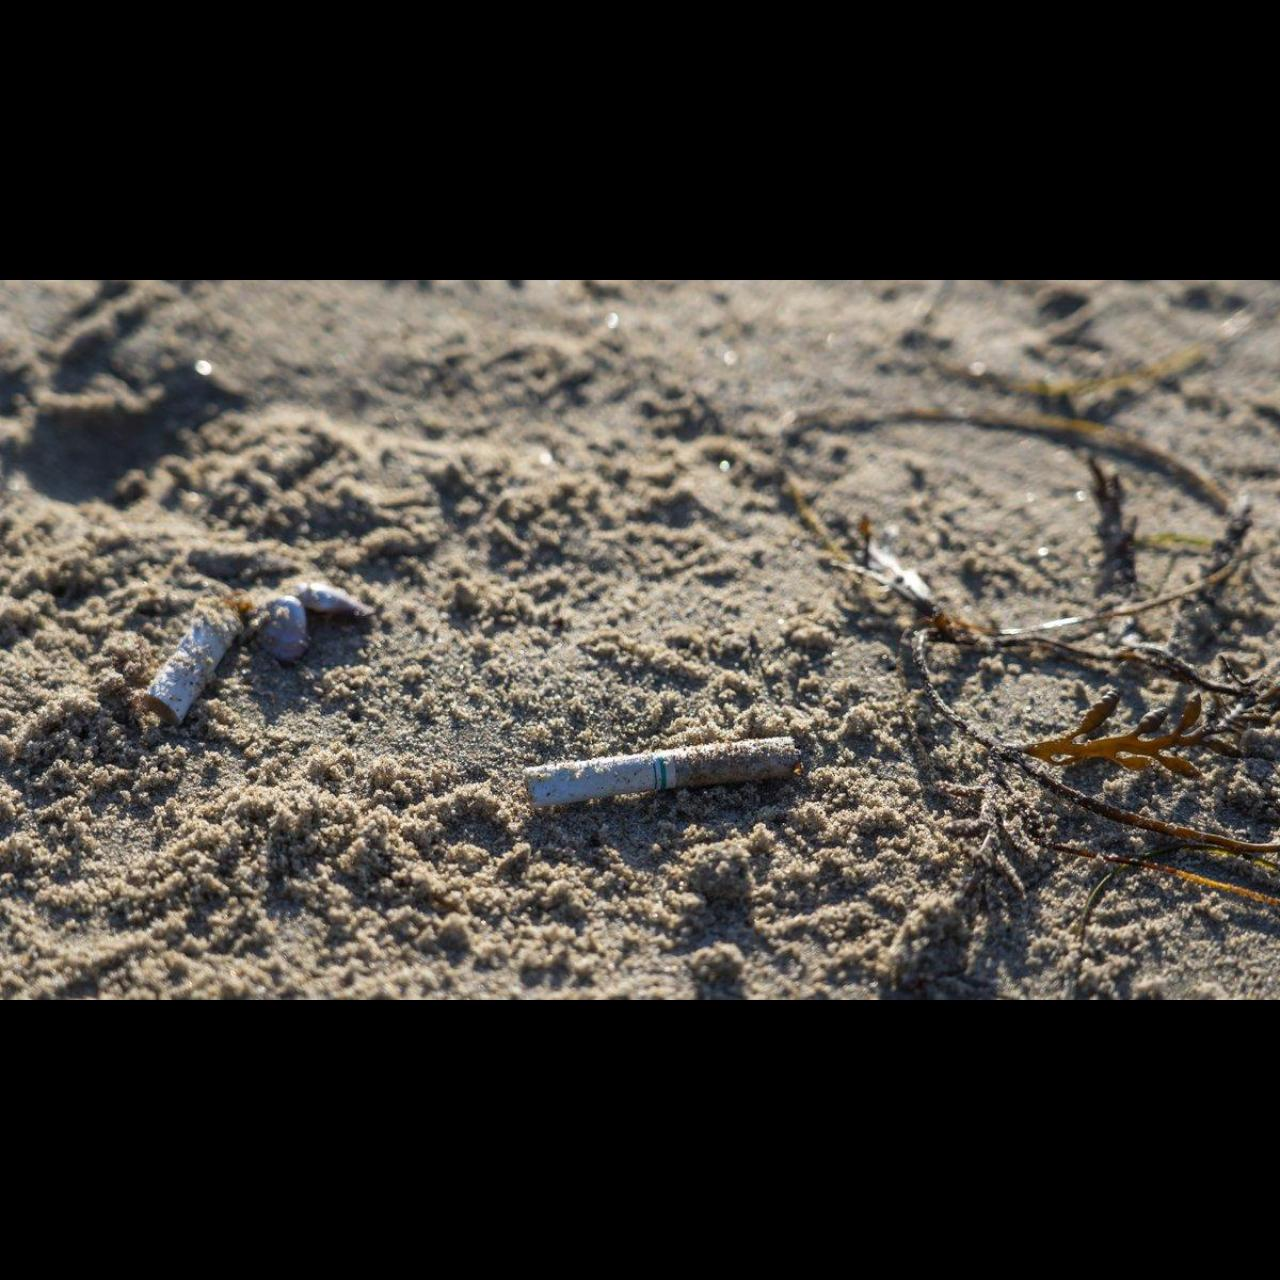cigarettes_butts: (524, 736, 802, 806), (148, 595, 243, 723)
